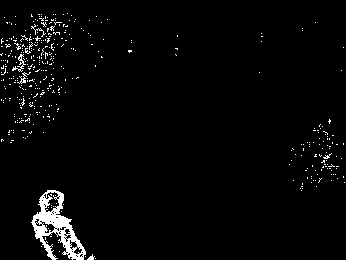person: (29, 186, 94, 260)
